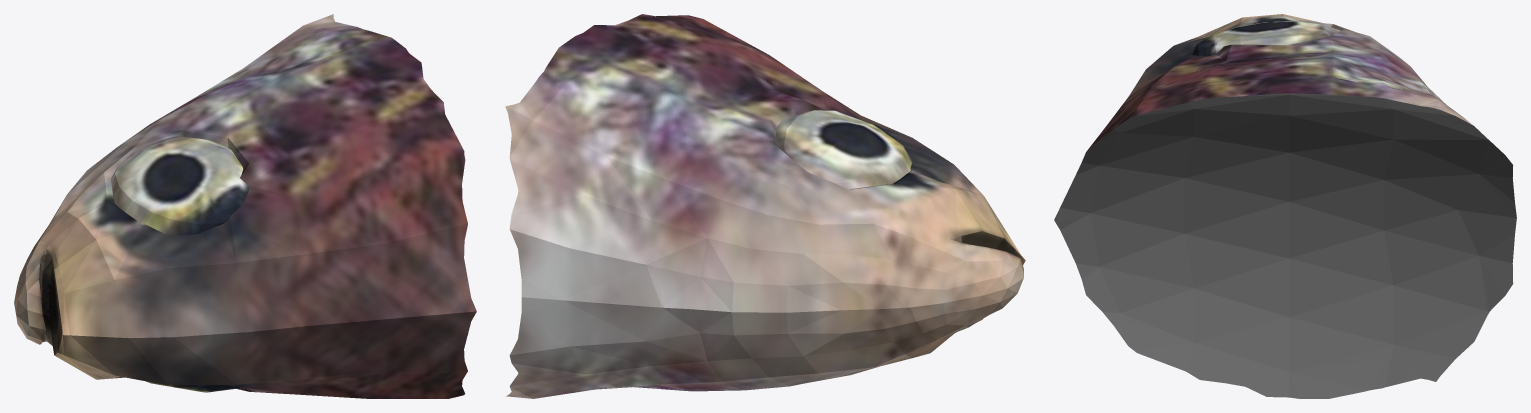
The picture shows the model from 3 angles, left to right: view 1: azimuth 30°, elevation 25°; view 2: azimuth 150°, elevation 25°; view 3: azimuth 270°, elevation 25°; orthographic projection. The views are drawn at different scales.
Parts seen in each view (by area): view 1: link_0_visual; view 2: link_0_visual; view 3: link_0_visual.
Part boxes in pixels (box(x1,y1,x2,y2)): link_0_visual: box(14, 14, 476, 398); link_0_visual: box(505, 14, 1025, 398); link_0_visual: box(1054, 14, 1516, 398).
Size of the model in its own units: 0.00244 by 0.0018 by 0.00247.
Materials: 1 (1 with a texture image).
